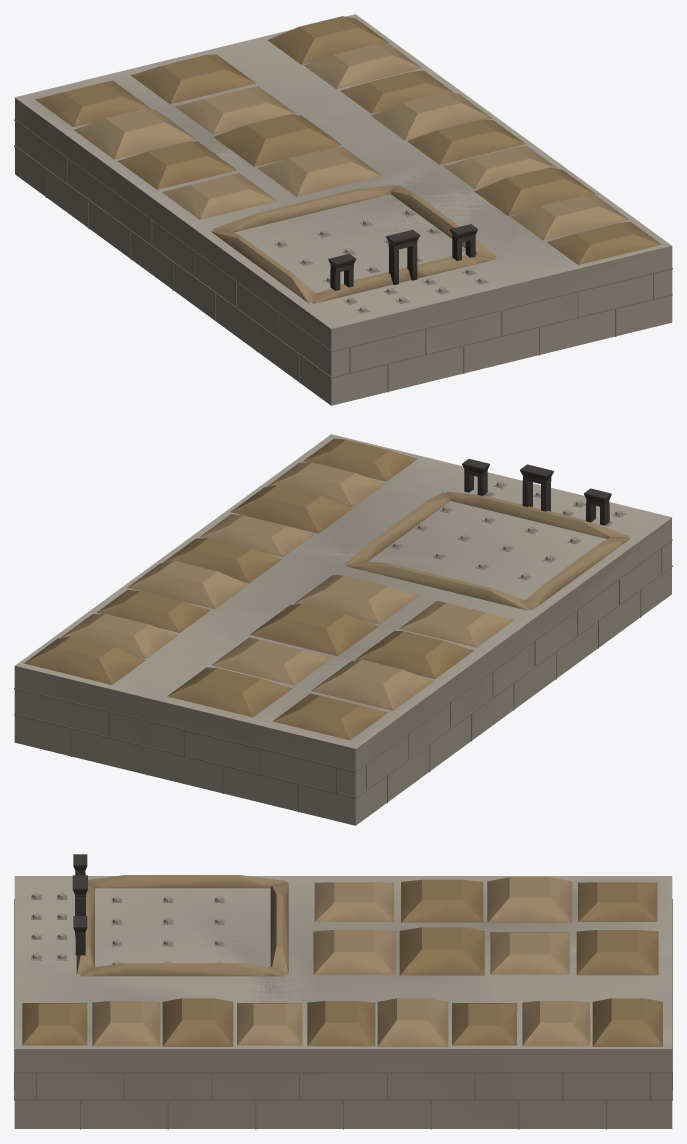
Rendered from harem-ruin.glb.
3 renders of one model, top to bottom at view 1: azimuth 30°, elevation 25°; view 2: azimuth 150°, elevation 25°; view 3: azimuth 270°, elevation 25°, orthographic. The views are drawn at different scales.
Visible parts, largest first — view 1: p0_terrace, p1_walls; view 2: p0_terrace, p1_walls; view 3: p0_terrace, p1_walls.
Boxes of the visible parts, bbox=[...] form: p0_terrace: bbox=[14, 14, 672, 405]; p1_walls: bbox=[35, 16, 661, 313]; p0_terrace: bbox=[14, 434, 672, 825]; p1_walls: bbox=[24, 438, 630, 740]; p0_terrace: bbox=[14, 876, 672, 1129]; p1_walls: bbox=[22, 854, 662, 1046].
Bounding box in the file's own units: 56.19 × 19.15 × 90.16.
